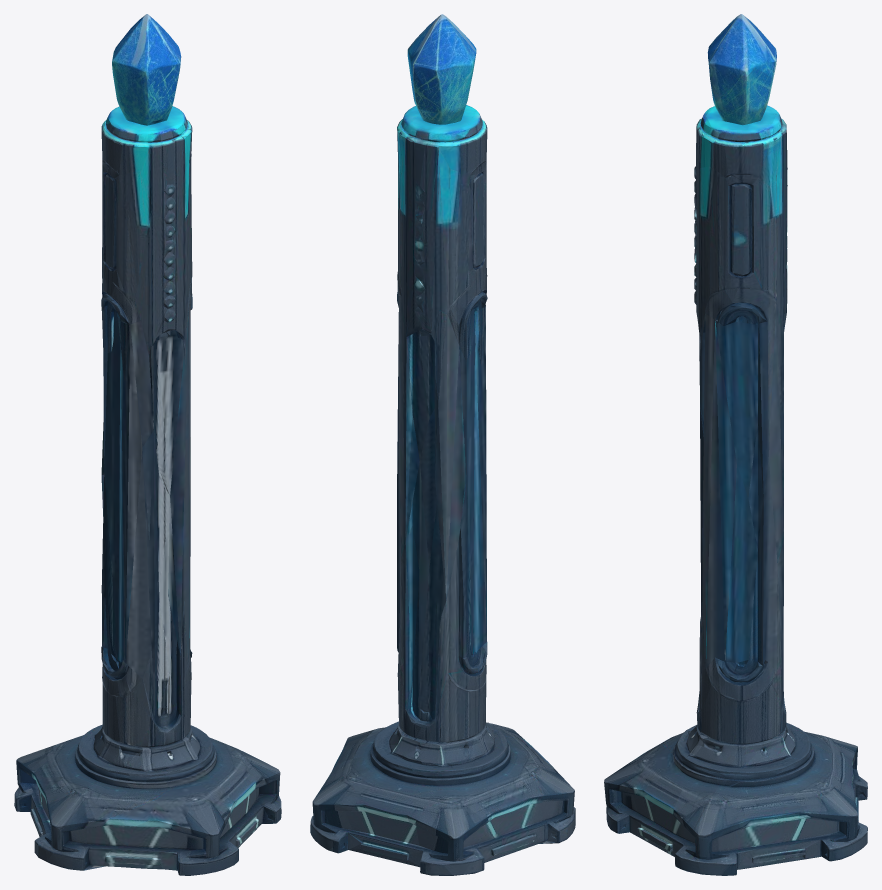
The model's file is b_pylon.glb.
3 renders of one model, left to right at view 1: azimuth 30°, elevation 25°; view 2: azimuth 150°, elevation 25°; view 3: azimuth 270°, elevation 25°, orthographic.
Bounding box in the file's own units: 0.5774 × 1.9 × 0.5645.
Materials: 1 (1 with a texture image).
